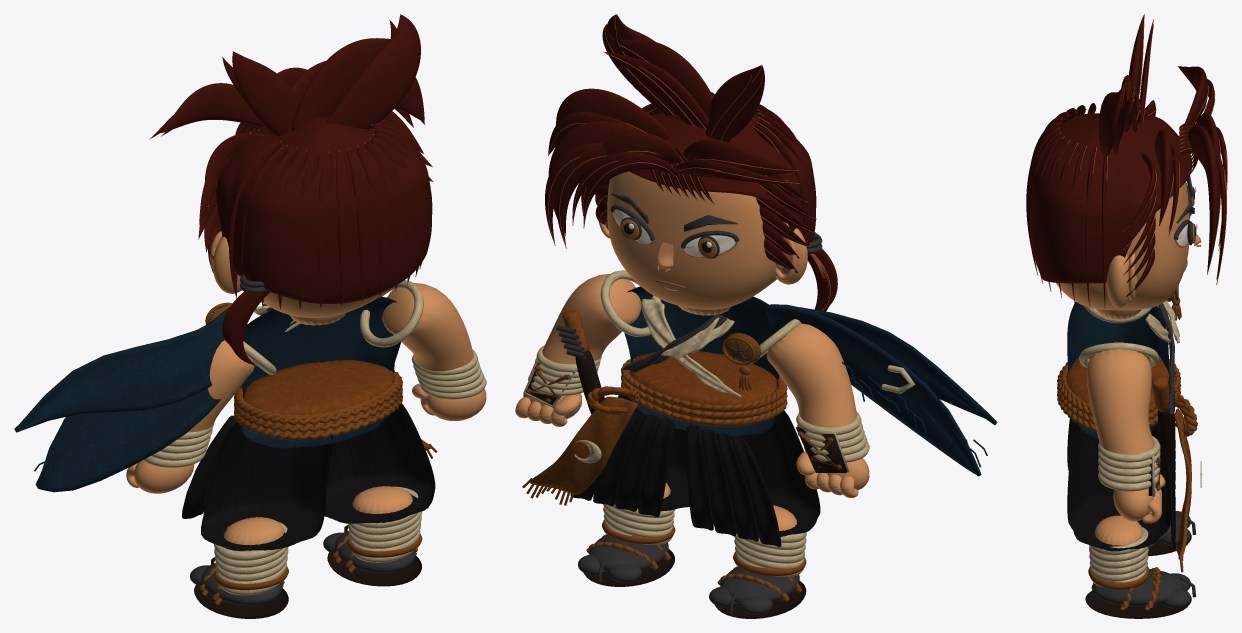
File: sen.glb
3 views of the same model, side by side, from view 1: azimuth 30°, elevation 25°; view 2: azimuth 150°, elevation 25°; view 3: azimuth 270°, elevation 25° (orthographic). The views are drawn at different scales.
Visible parts, largest first — view 1: Sen__Fitted_scalp, Sen__Trousers_-1, Sen__Wind_scarf_upper, Sen__Wind_scarf_lower, Sen__Under_kimono, Sen__Trousers_1, Sen__Sash_base, Sen__Crown_swept_lock_02, Sen__Arm_anatomy_1, Sen__Crown_swept_lock_01, Sen__Crown_swept_lock_00, Sen__Crown_swept_lock_06 (+25 smaller); view 2: Sen__Face_sculpt_cage, Sen__Wind_scarf_lower, Sen__Arm_anatomy_-1, Sen__Under_kimono, Sen__Fitted_scalp, Sen__Sash_base, Sen__Trousers_-1, Sen__Arm_anatomy_1, Sen__Ochre_sash_tail, Sen__Wind_scarf_upper, Sen__Crown_swept_lock_03, Sen__Crown_swept_lock_01 (+35 smaller); view 3: Sen__Fitted_scalp, Sen__Arm_anatomy_1, Sen__Face_sculpt_cage, Sen__Trousers_1, Sen__Under_kimono, Sen__Crown_swept_lock_04, Sen__Foot_1, Sen__Sandal_sole_1, Sen__Crown_swept_lock_02, Sen__Calf_1, Sen__Ochre_sash_tail, Sen__Crown_swept_lock_03 (+43 smaller).
Boxes of the visible parts, <box> form: Sen__Fitted_scalp: <box>215,116,432,303</box>; Sen__Trousers_-1: <box>201,422,332,550</box>; Sen__Wind_scarf_upper: <box>14,314,248,432</box>; Sen__Wind_scarf_lower: <box>35,307,229,492</box>; Sen__Under_kimono: <box>241,296,401,448</box>; Sen__Trousers_1: <box>308,403,435,523</box>; Sen__Sash_base: <box>243,359,393,415</box>; Sen__Crown_swept_lock_02: <box>326,15,420,129</box>; Sen__Arm_anatomy_1: <box>382,283,473,375</box>; Sen__Crown_swept_lock_01: <box>292,38,390,130</box>; Sen__Crown_swept_lock_00: <box>232,52,299,136</box>; Sen__Crown_swept_lock_06: <box>161,83,265,132</box>; Sen__Face_sculpt_cage: <box>607,171,787,309</box>; Sen__Wind_scarf_lower: <box>765,304,981,476</box>; Sen__Arm_anatomy_-1: <box>766,323,856,427</box>; Sen__Under_kimono: <box>624,286,779,436</box>; Sen__Fitted_scalp: <box>629,112,816,247</box>; Sen__Sash_base: <box>630,351,777,419</box>; Sen__Trousers_-1: <box>690,410,820,536</box>; Sen__Arm_anatomy_1: <box>542,274,641,363</box>; Sen__Ochre_sash_tail: <box>529,396,638,494</box>; Sen__Wind_scarf_upper: <box>801,307,997,424</box>; Sen__Crown_swept_lock_03: <box>556,88,669,140</box>; Sen__Crown_swept_lock_01: <box>619,39,713,117</box>; Sen__Fitted_scalp: <box>1029,113,1192,283</box>; Sen__Arm_anatomy_1: <box>1086,349,1153,454</box>; Sen__Face_sculpt_cage: <box>1056,182,1189,310</box>; Sen__Trousers_1: <box>1067,422,1170,551</box>; Sen__Under_kimono: <box>1067,302,1168,439</box>; Sen__Crown_swept_lock_04: <box>1187,125,1220,272</box>; Sen__Foot_1: <box>1091,569,1184,606</box>; Sen__Sandal_sole_1: <box>1085,590,1191,618</box>; Sen__Crown_swept_lock_02: <box>1098,83,1124,156</box>; Sen__Calf_1: <box>1094,515,1143,545</box>; Sen__Ochre_sash_tail: <box>1174,408,1191,559</box>; Sen__Crown_swept_lock_03: <box>1154,129,1173,225</box>.
Bounding box in the file's own units: 2.68 × 2.99 × 1.03.
Materials: 18 (8 with a texture image).
